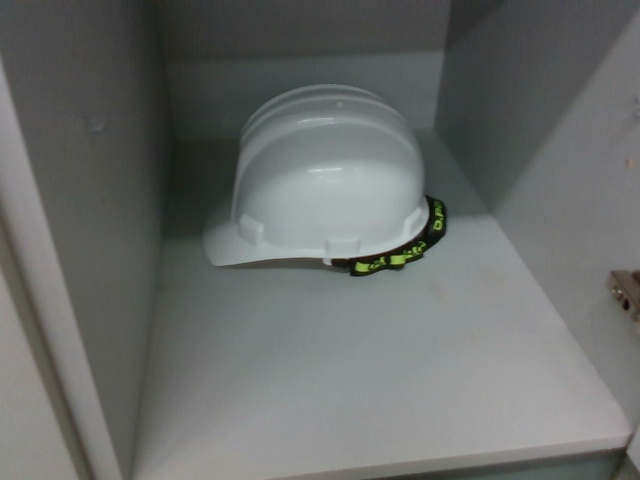helmet: (188, 78, 448, 271)
